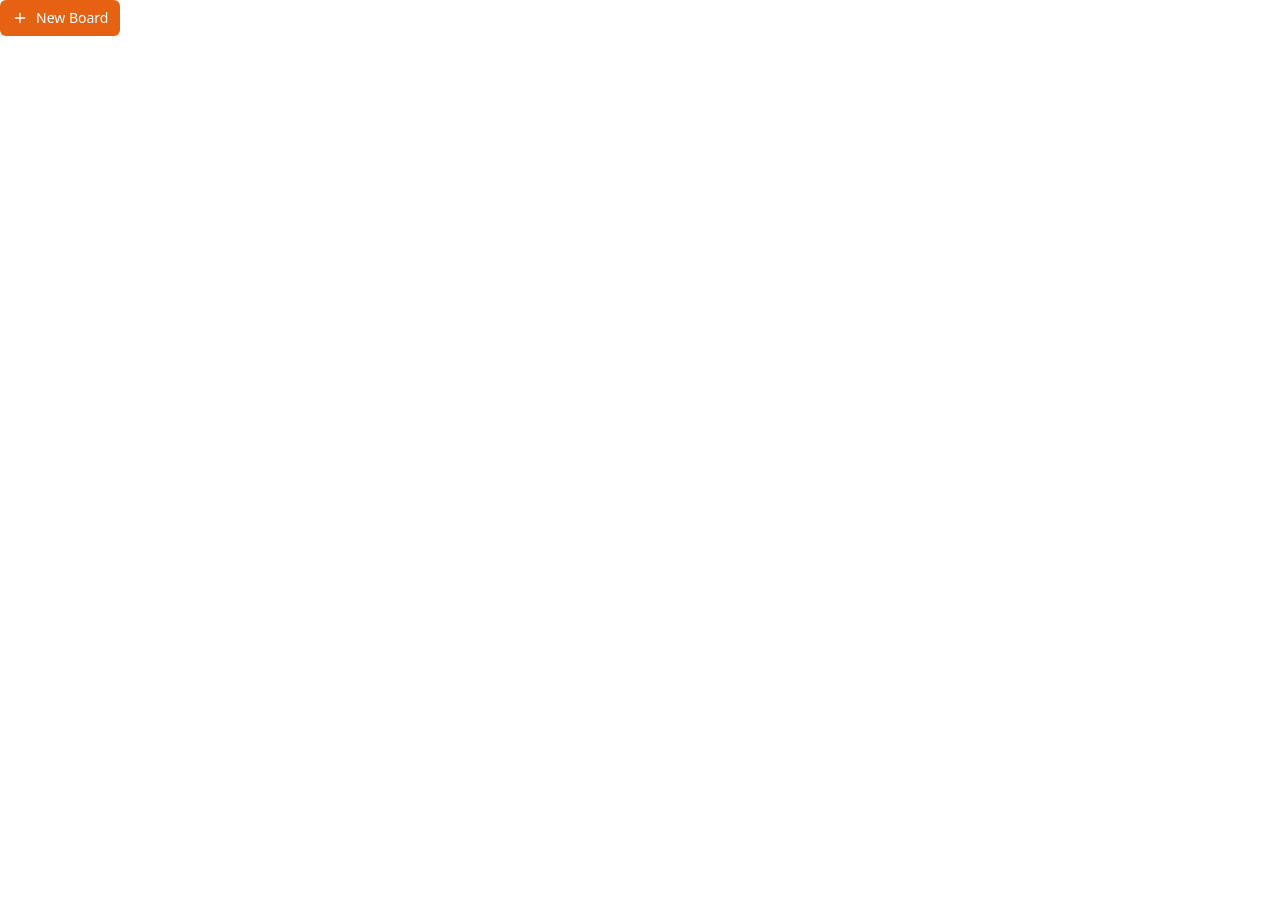
Test: CreateBoardDialog › enables create button when title is provided
Click the button "New Board" at [60, 18], box [0,0,120,36]
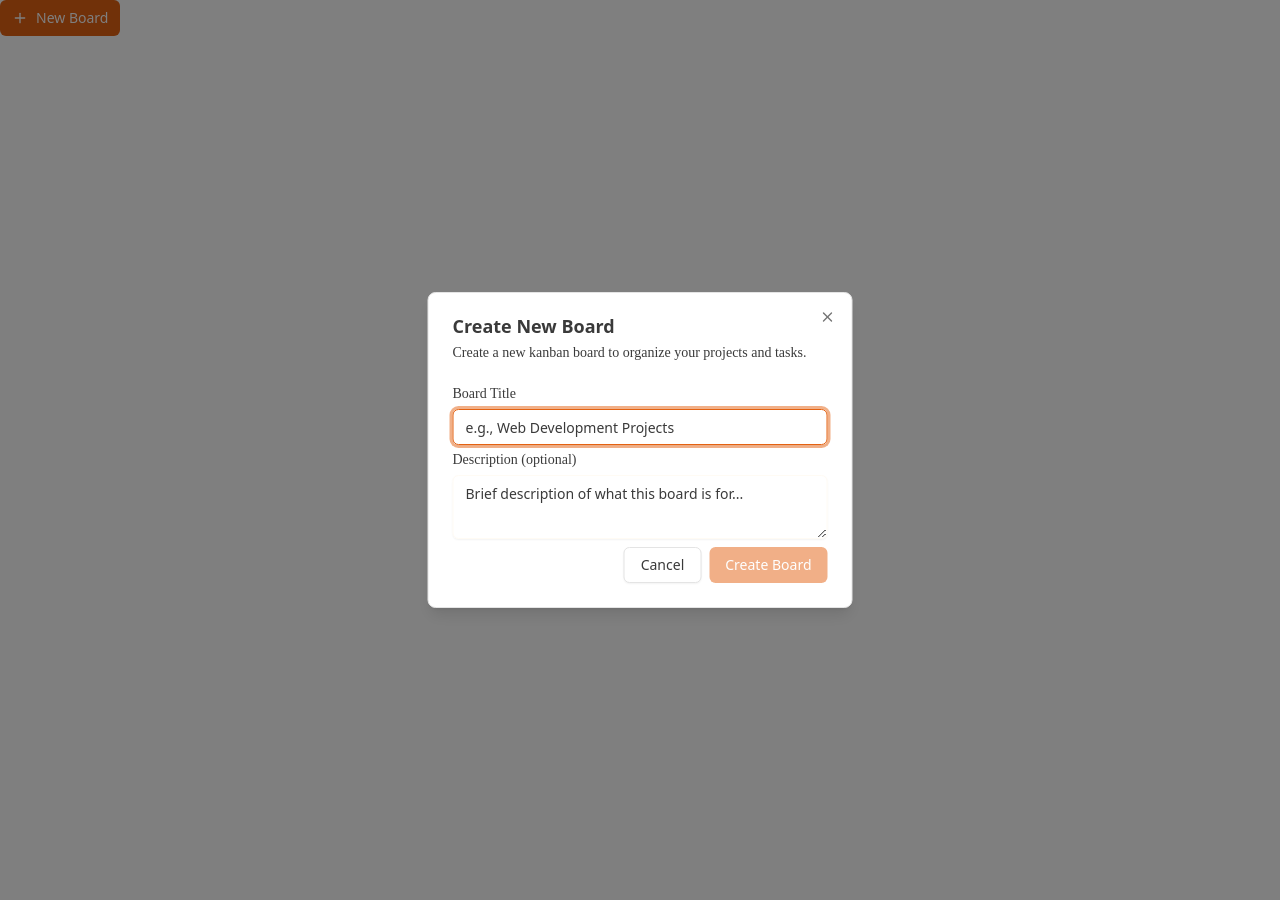
Type "Test Board" into the field labelled "Board Title" at [640, 427], box [452,409,828,445]
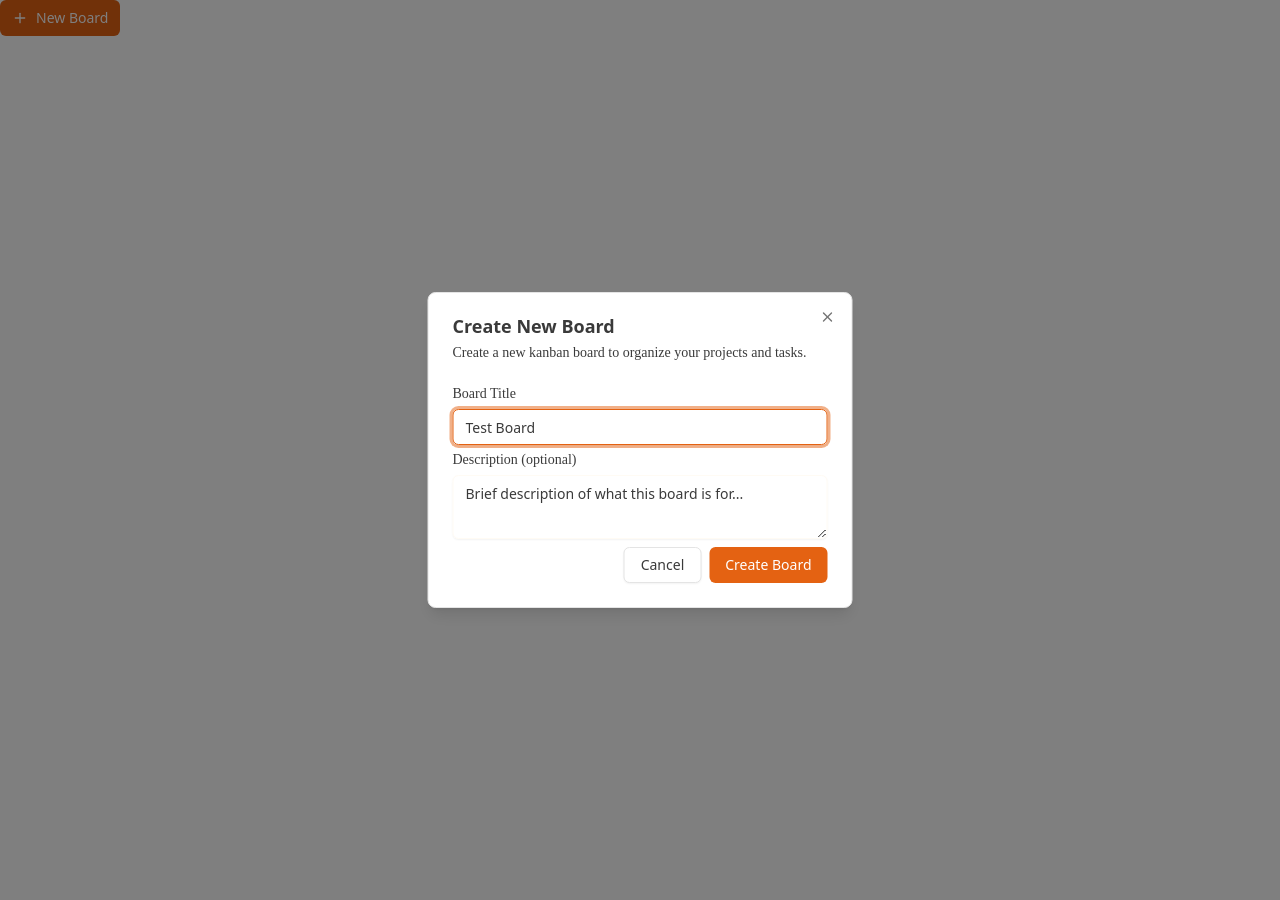
Now the button "Create Board" is enabled, box [709,547,828,583]
